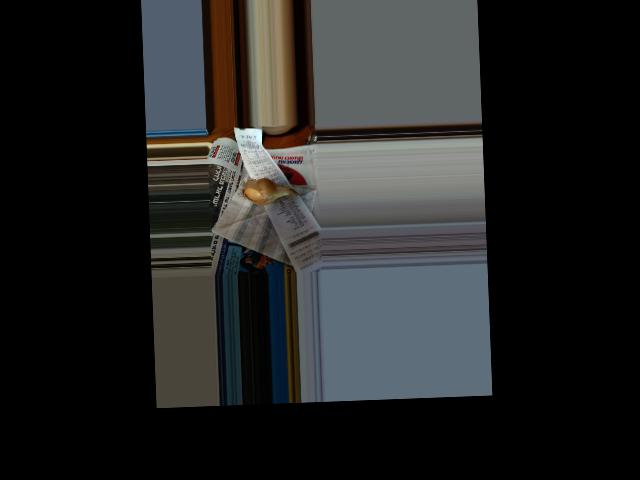onion: (241, 176, 293, 206)
